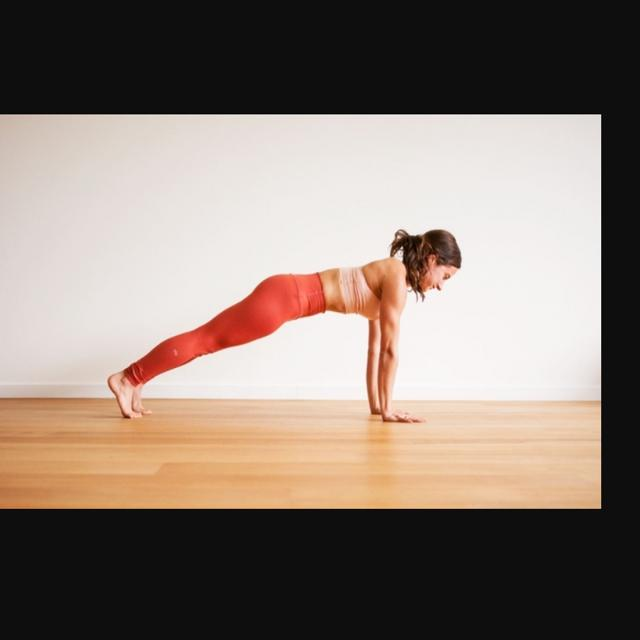Plank_Pose: (102, 227, 466, 436)
